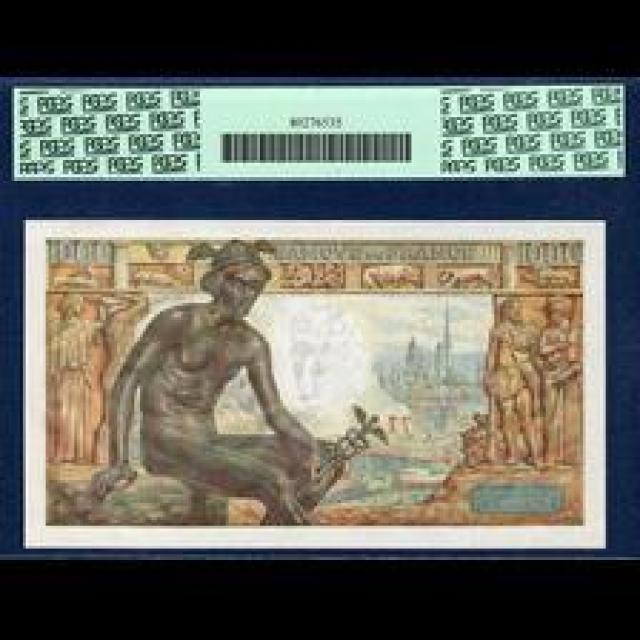banknote: (22, 219, 610, 550), (40, 235, 116, 267), (514, 237, 586, 270)
